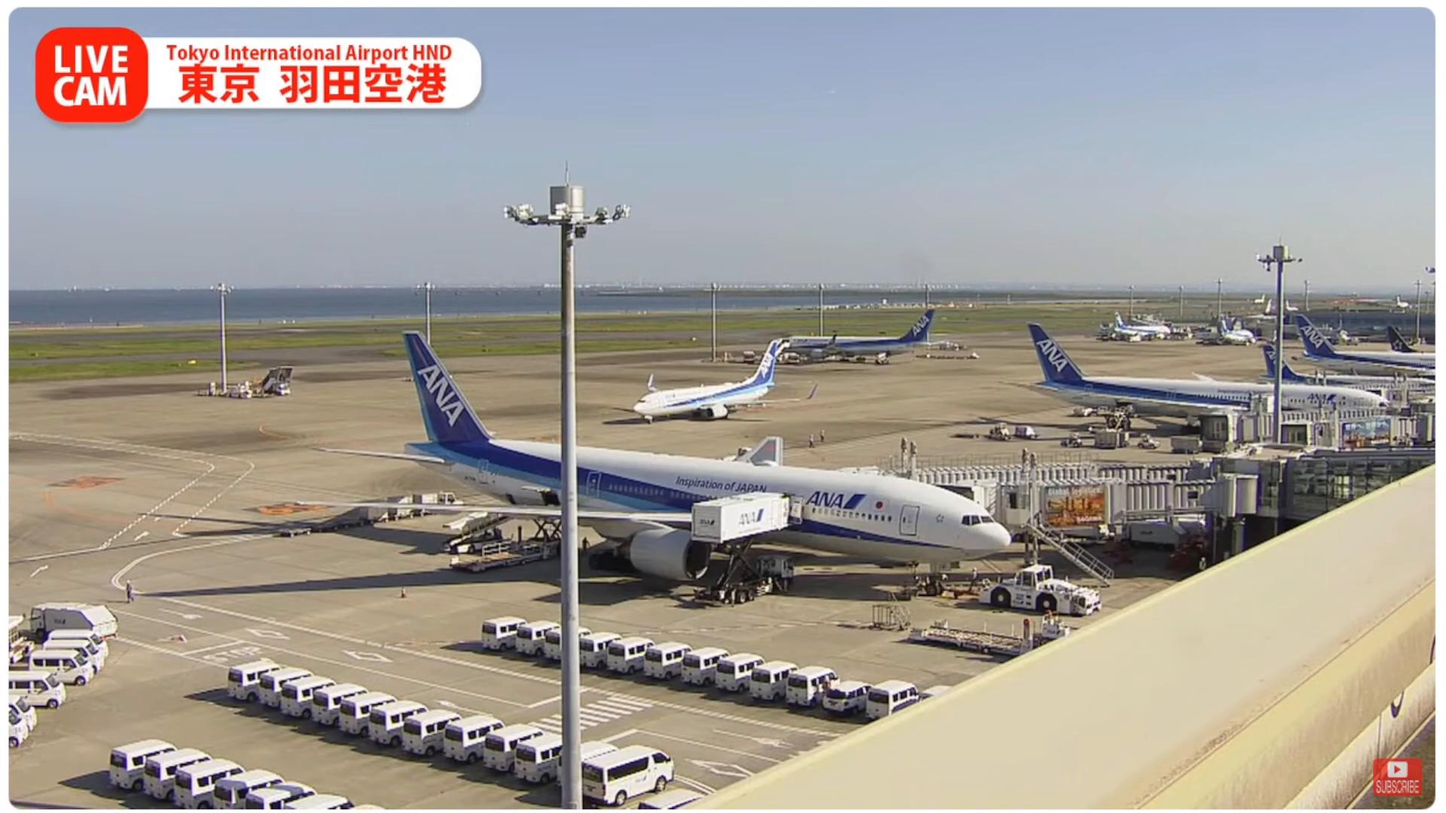APS: (982, 565, 1107, 615)
Aerobridge: (880, 463, 1198, 520), (990, 479, 1258, 539)
Airplane: (308, 328, 1018, 599)
Catering: (686, 489, 792, 606)
Dolly: (273, 486, 442, 537)
JCPL: (903, 609, 1073, 659), (480, 504, 562, 572)
Skyloader: (444, 505, 507, 558)
Tractor: (439, 487, 465, 513)
Window: (1281, 462, 1437, 524)
